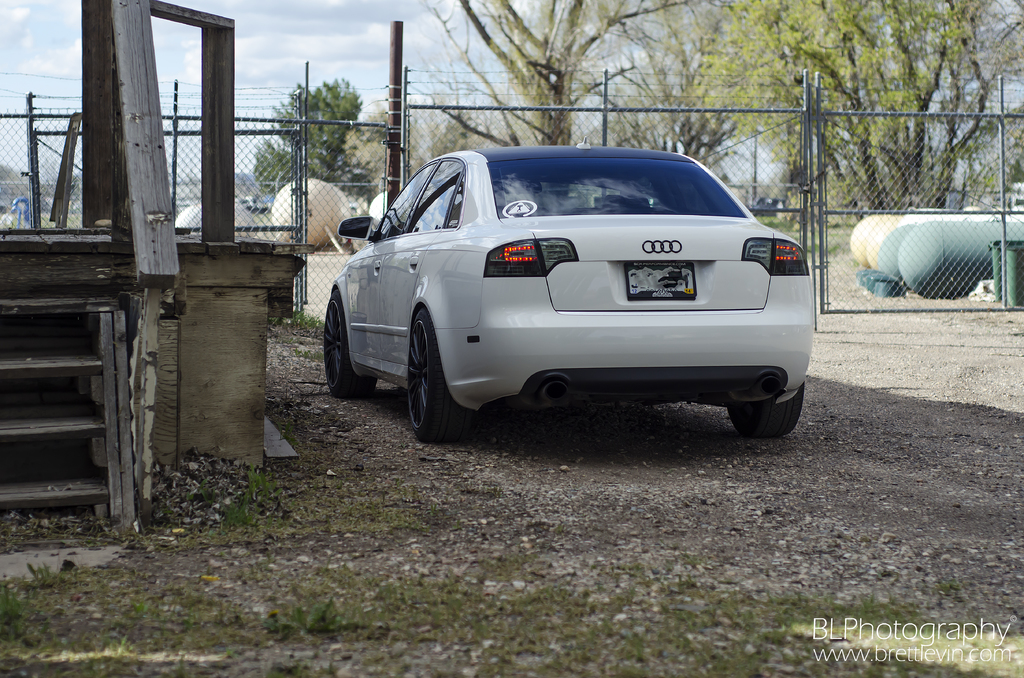Car: (321, 137, 815, 438)
